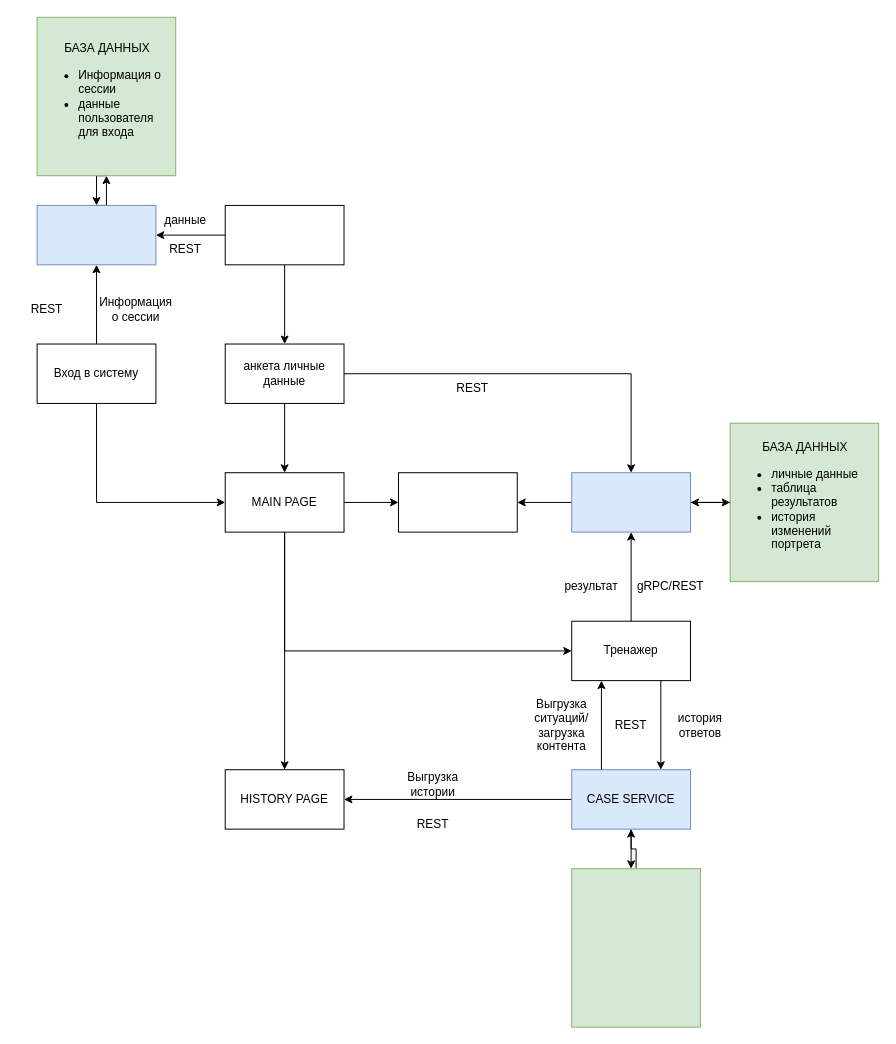
This 896x1044 diagram has some shape labels left out. Each missing label, with the centre of its shape:
"AUTH SERVICE" goes at point 96,234.
"PROFILE PAGE" goes at point 457,502.
"PROFILE SERVICE" goes at point 631,502.
"БАЗА ДАННЫХ История ответов Банк кейсов" goes at point 635,947.
"регистрация/oauth2" goes at point 284,234.
